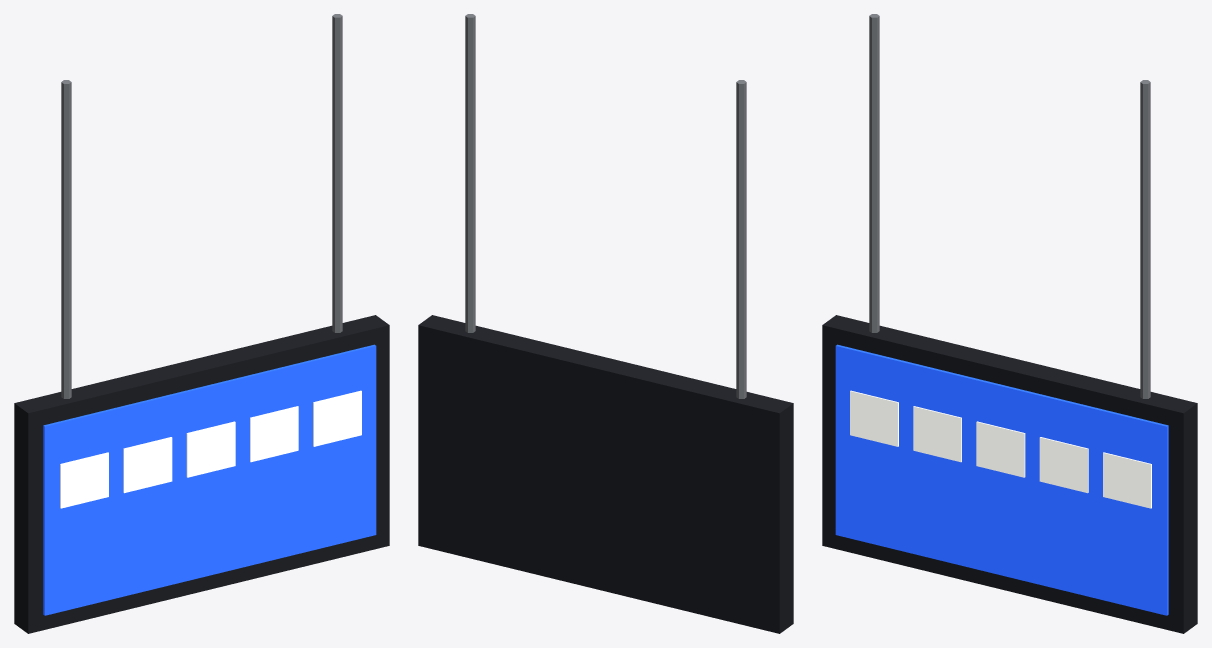
The model's file is score_screen.glb.
3 views of the same model, side by side, from view 1: azimuth 30°, elevation 25°; view 2: azimuth 150°, elevation 25°; view 3: azimuth 330°, elevation 25° (orthographic).
Parts seen in each view (by area): view 1: screen_screen_blue, frame_screen_frame, cells_screen_cell (×5), bars_screen_bar (×2); view 2: frame_screen_frame, bars_screen_bar (×2); view 3: screen_screen_blue, frame_screen_frame, cells_screen_cell (×5), bars_screen_bar (×2).
Part boxes in pixels (bbox=[...]): screen_screen_blue: bbox=[43, 344, 376, 615]; frame_screen_frame: bbox=[14, 315, 389, 633]; cells_screen_cell (×5): bbox=[60, 390, 361, 508]; bars_screen_bar (×2): bbox=[61, 14, 342, 398]; frame_screen_frame: bbox=[418, 315, 793, 633]; bars_screen_bar (×2): bbox=[465, 14, 746, 398]; screen_screen_blue: bbox=[835, 344, 1168, 615]; frame_screen_frame: bbox=[822, 315, 1197, 633]; cells_screen_cell (×5): bbox=[850, 390, 1151, 508]; bars_screen_bar (×2): bbox=[869, 14, 1150, 398].
Size of the model in its own units: 1.2 by 1.7 by 0.0945.
